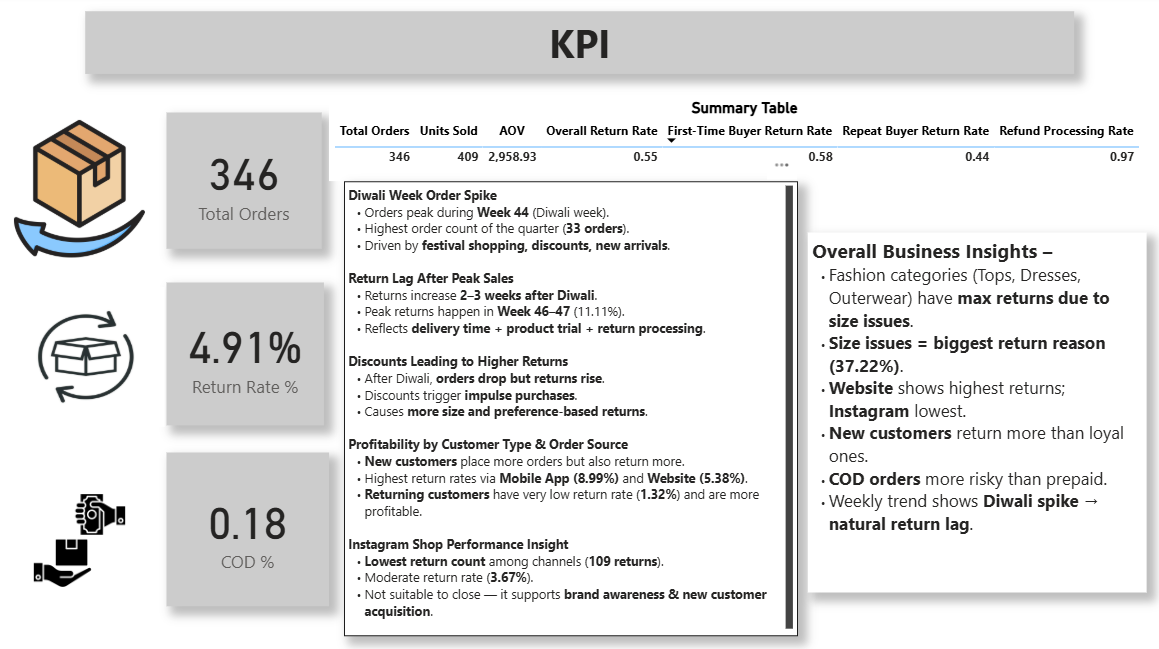

The dashboard page shown, as its layout file describes it:
{"tool":"powerbi","page":{"name":"KPI","canvas":[1280,720],"ordinal":3},"visuals":[{"type":"card","fields":{"Values":["urbanthreads_q4.Total Orders"]},"box":[189.4,129,170.2,149.6],"z":0},{"type":"card","fields":{"Values":["urbanthreads_q4.Return Rate %"]},"box":[189.4,315.6,172.9,156.4],"z":1000},{"type":"card","fields":{"Values":["DateTable.COD %"]},"box":[189.4,502.2,178.4,168.8],"z":2000},{"type":"image","box":[11,129,166,167.4],"z":3000},{"type":"image","box":[9.6,315.6,182.5,163.3],"z":4000},{"type":"image","box":[27.4,542,133.1,113.9],"z":5000},{"type":"textbox","box":[100.2,17.8,1085.4,68.6],"z":6000},{"type":"tableEx","title":"Summary Table","fields":{"Values":["urbanthreads_q4.Total Orders","DateTable.Units Sold","urbanthreads_q4.AOV","DateTable.Overall Return Rate","DateTable.First-Time Buyer Return Rate","DateTable.Repeat Buyer Return Rate","DateTable.Refund Processing Rate"]},"box":[367.8,113.9,912.5,90.6],"z":7000},{"type":"textbox","box":[384.2,204.5,498.1,499.5],"z":7001},{"type":"textbox","box":[893.3,260.7,371.9,395.2],"z":7002}]}

Visuals, with their boxes in screenshot pixels (x1, y1, x2, y2), scaled from the page's 1280x720 canvas onto the 1159x649 screenshot:
card - urbanthreads_q4.Total Orders: locate(171, 116, 326, 251)
card - urbanthreads_q4.Return Rate %: locate(171, 284, 328, 425)
card - DateTable.COD %: locate(171, 453, 333, 605)
image: locate(10, 116, 160, 267)
image: locate(9, 284, 174, 432)
image: locate(25, 489, 145, 591)
textbox: locate(91, 16, 1074, 78)
"Summary Table" tableEx: locate(333, 103, 1158, 184)
textbox: locate(348, 184, 799, 635)
textbox: locate(809, 235, 1146, 591)
